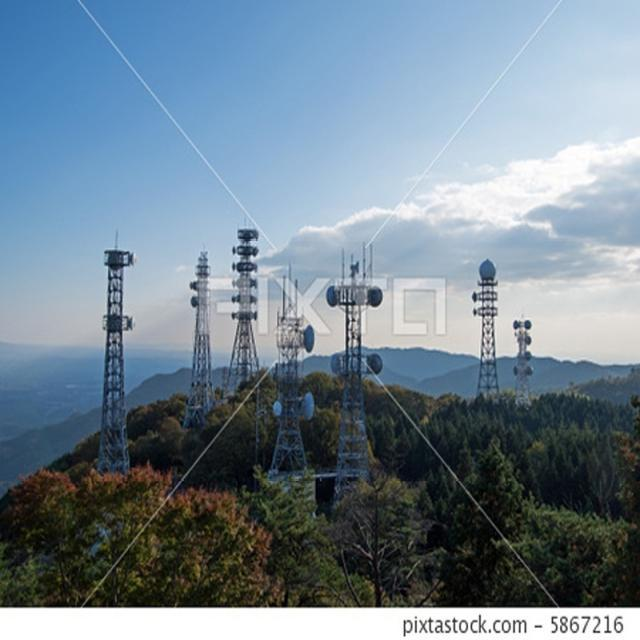non-critical vegetation: (330, 258, 392, 508), (91, 241, 137, 464), (223, 214, 259, 398), (182, 238, 216, 426), (471, 251, 506, 388)
